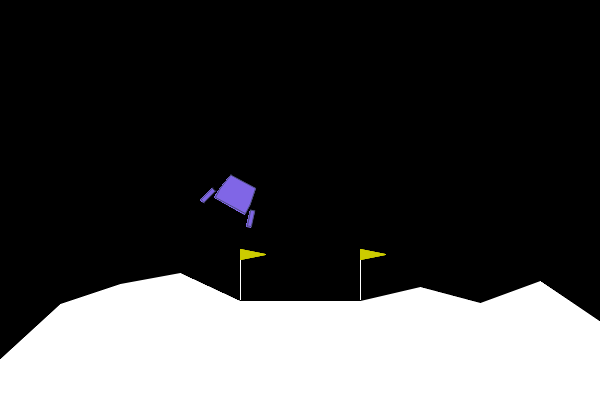lander: (198, 166, 270, 230)
